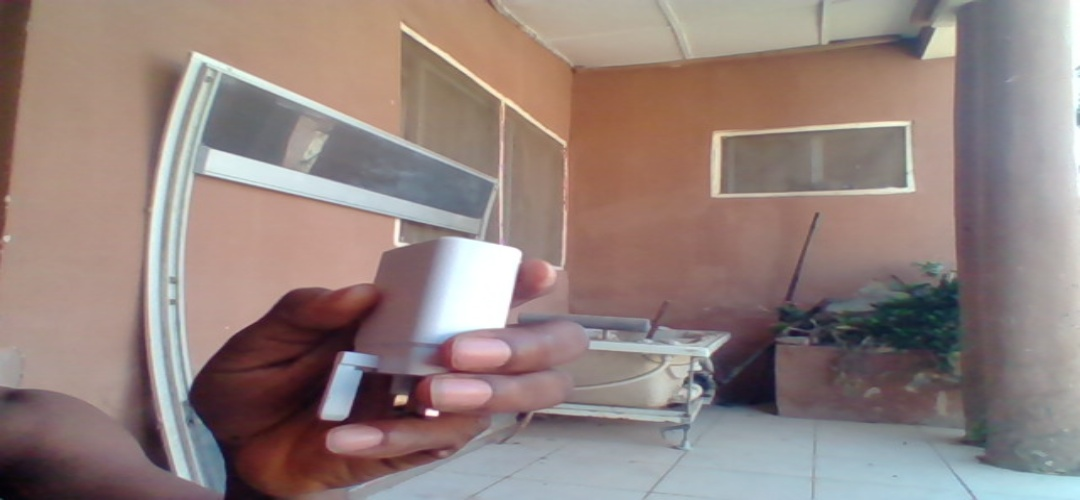phone_charger: (330, 240, 541, 415)
